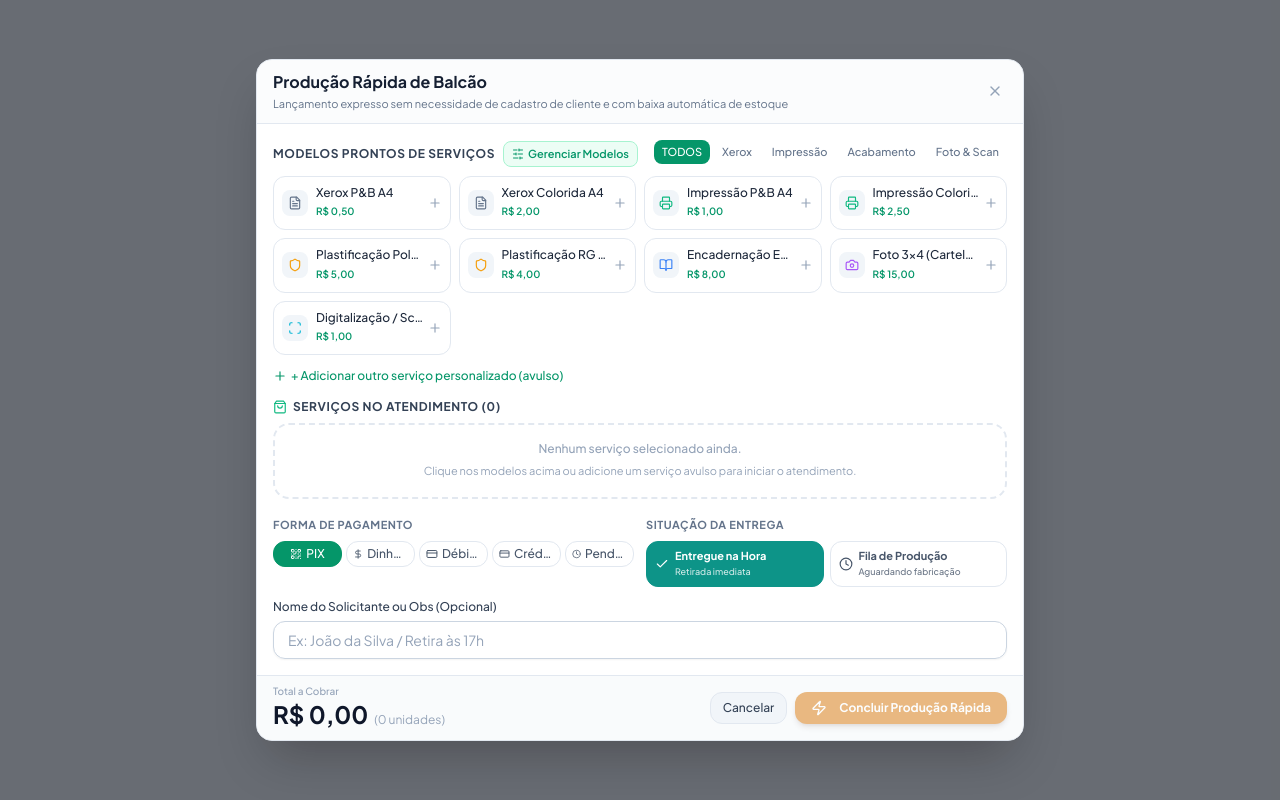
Test: QuickProductionModal › adds preset item to list and updates total amount on click
Click the button "Xerox P&B A4 R$ 0,50" at (362, 203), box [273, 176, 450, 230]
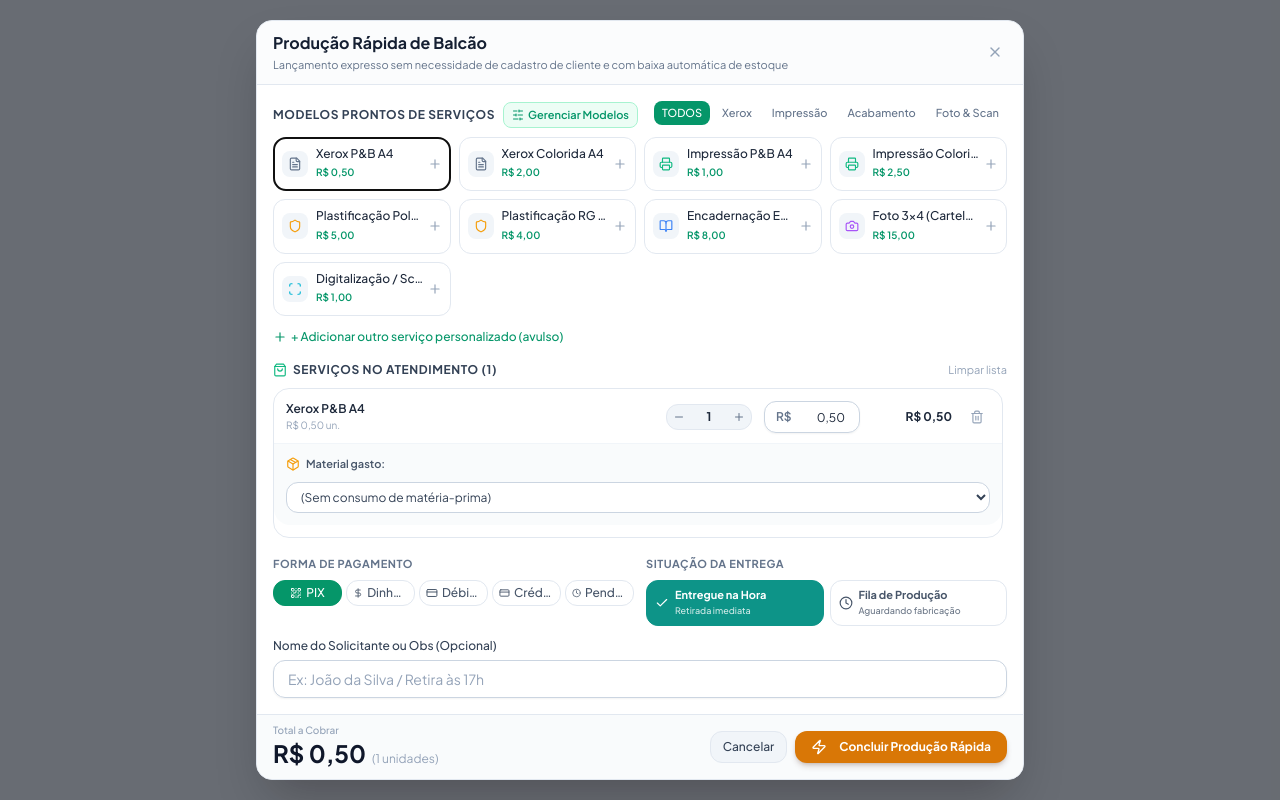
Result: the text "Serviços no Atendimento (1)" is shown at [273, 362, 497, 378]
Result: the text "Nenhum serviço selecionado ainda." is gone
Click the button "Xerox P&B A4 R$ 0,50" at (362, 164), box [273, 136, 450, 191]
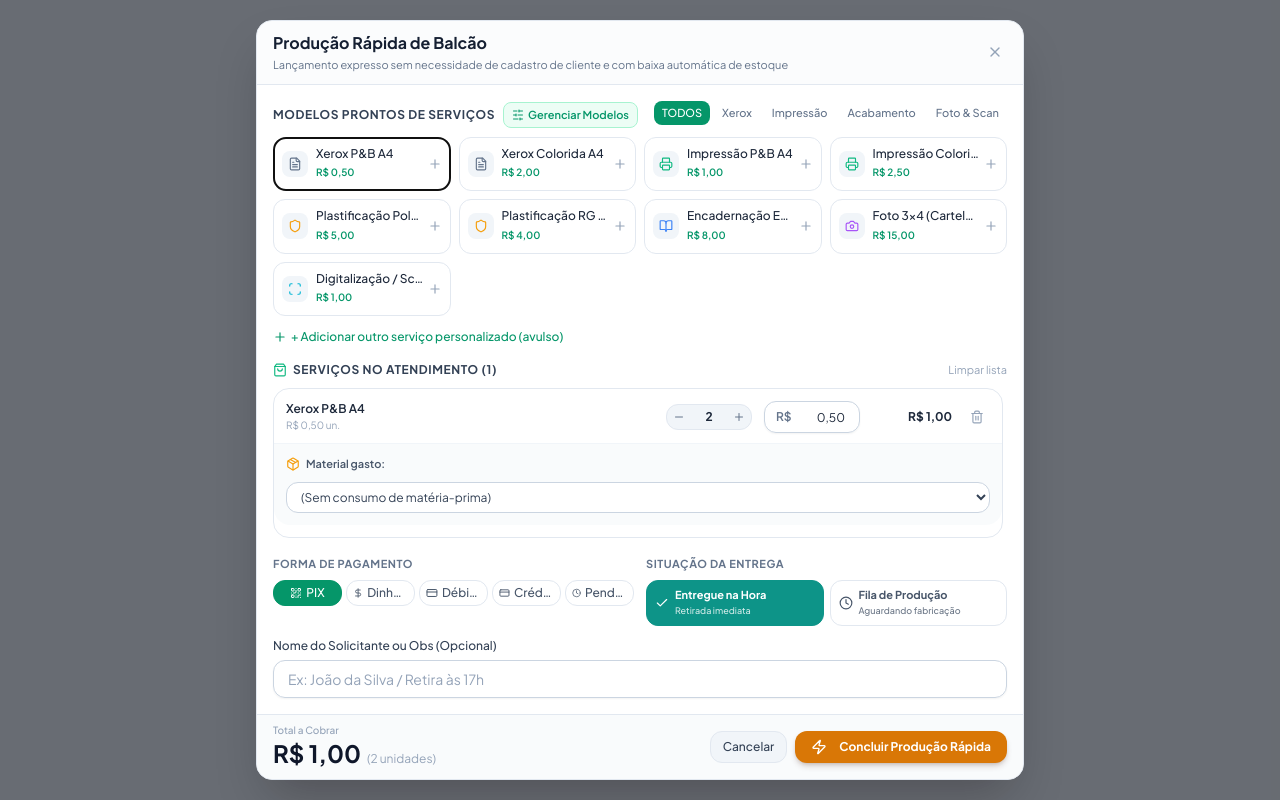
Result: the text "(2 unidades)" is shown at [367, 753, 436, 765]
